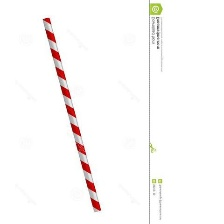drinking_straw: (36, 12, 106, 216)
